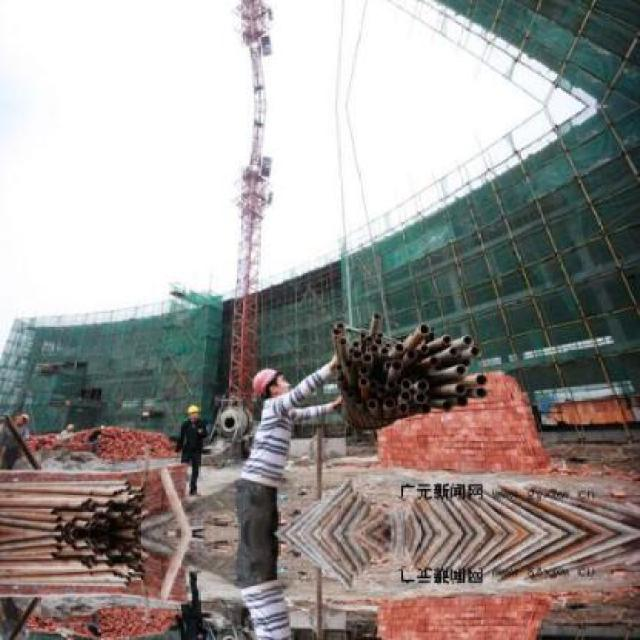helmet: (245, 361, 293, 405), (186, 402, 202, 422)
